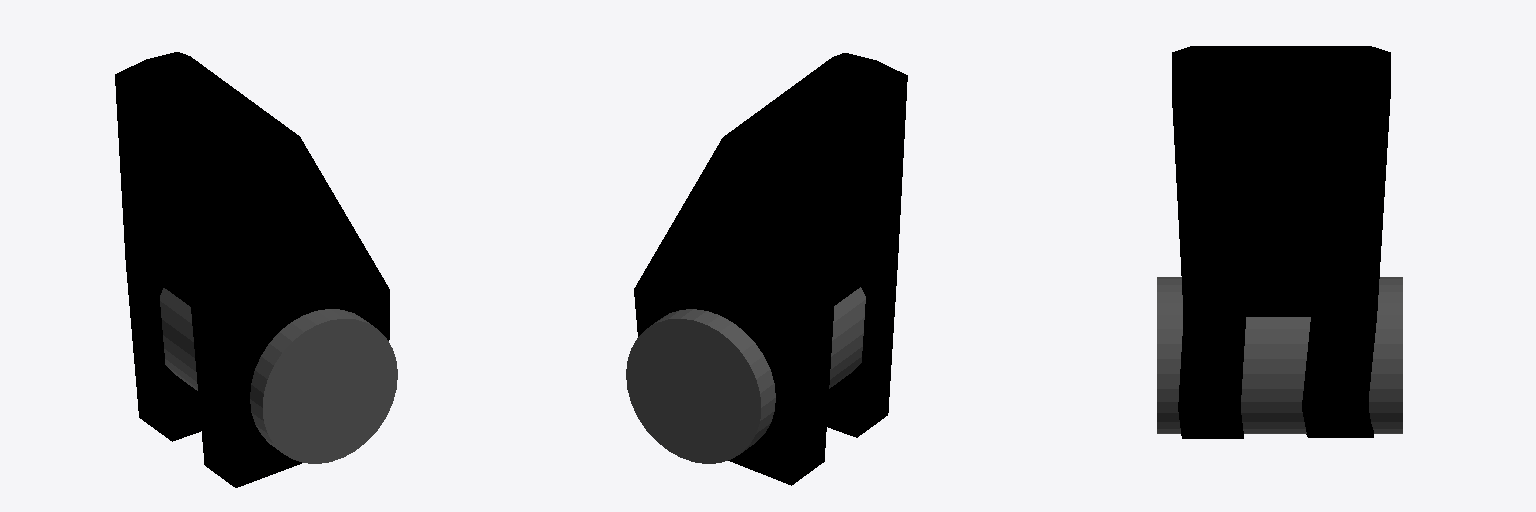
File: штучка2.obj
3 views of the same model, side by side, from view 1: azimuth 30°, elevation 25°; view 2: azimuth 150°, elevation 25°; view 3: azimuth 270°, elevation 25° (orthographic).
Visible parts, largest first — view 1: Cube, Cylinder; view 2: Cube, Cylinder; view 3: Cube, Cylinder.
Part boxes in pixels (bbox=[...]): Cube: bbox=[115, 52, 389, 487]; Cylinder: bbox=[160, 288, 397, 463]; Cube: bbox=[634, 53, 907, 485]; Cylinder: bbox=[626, 287, 865, 463]; Cube: bbox=[1172, 46, 1390, 438]; Cylinder: bbox=[1157, 277, 1402, 433].
Bounding box in the file's own units: 0.1709 × 0.3408 × 0.2131.